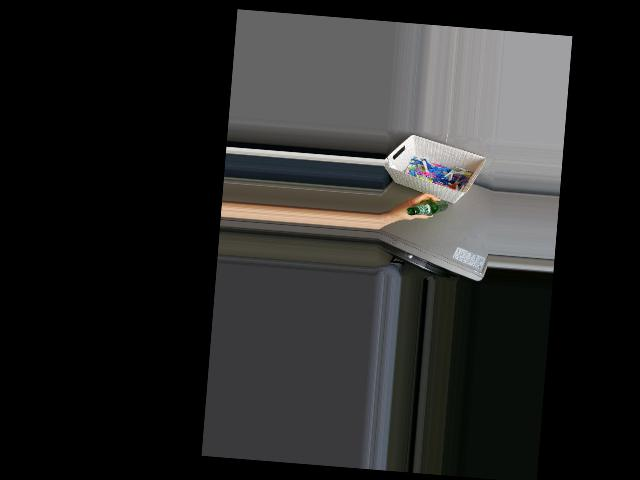beer: (405, 196, 447, 218)
